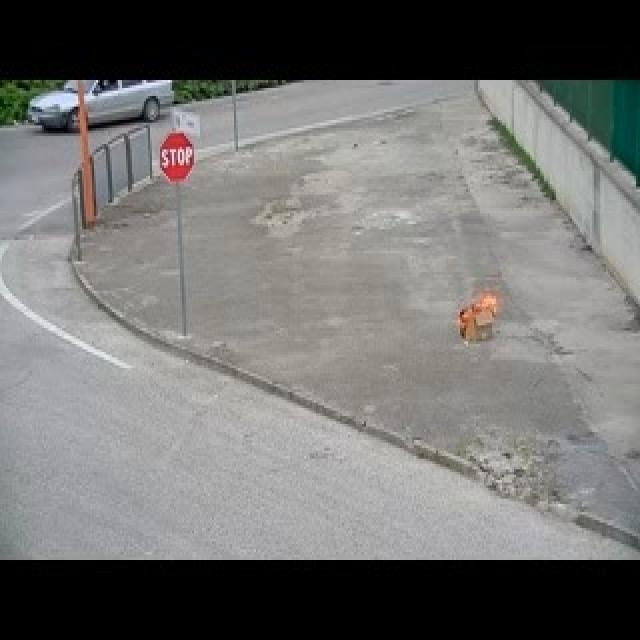fire: (460, 289, 498, 343)
